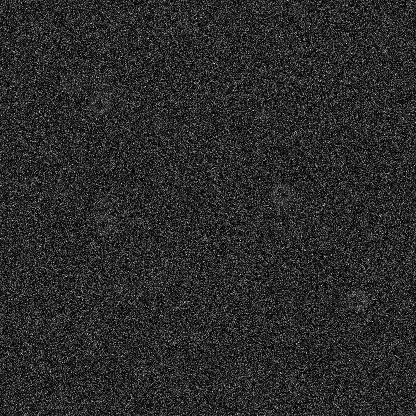Ring: (237, 388, 261, 412), (163, 286, 187, 310), (344, 287, 368, 311), (269, 181, 293, 205), (92, 211, 116, 235), (89, 59, 113, 83), (166, 371, 190, 395), (87, 91, 111, 115), (58, 70, 82, 94)
Spot: (149, 115, 165, 131), (226, 245, 242, 261), (176, 9, 192, 25), (42, 317, 58, 333), (92, 194, 108, 210), (254, 106, 270, 122), (285, 193, 301, 209), (391, 167, 407, 183), (66, 130, 82, 146), (24, 317, 40, 333), (212, 35, 228, 51), (150, 277, 166, 293)
